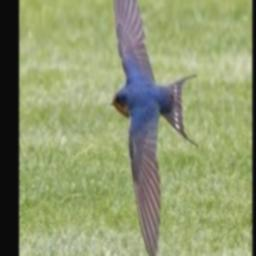Swallow: (109, 0, 198, 256)
